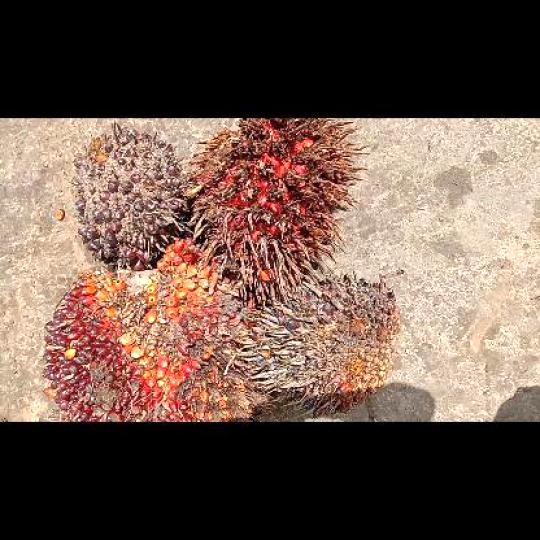kurang masak: (70, 120, 190, 268)
masak: (40, 237, 248, 420)
terlalu masak: (182, 118, 369, 300)
